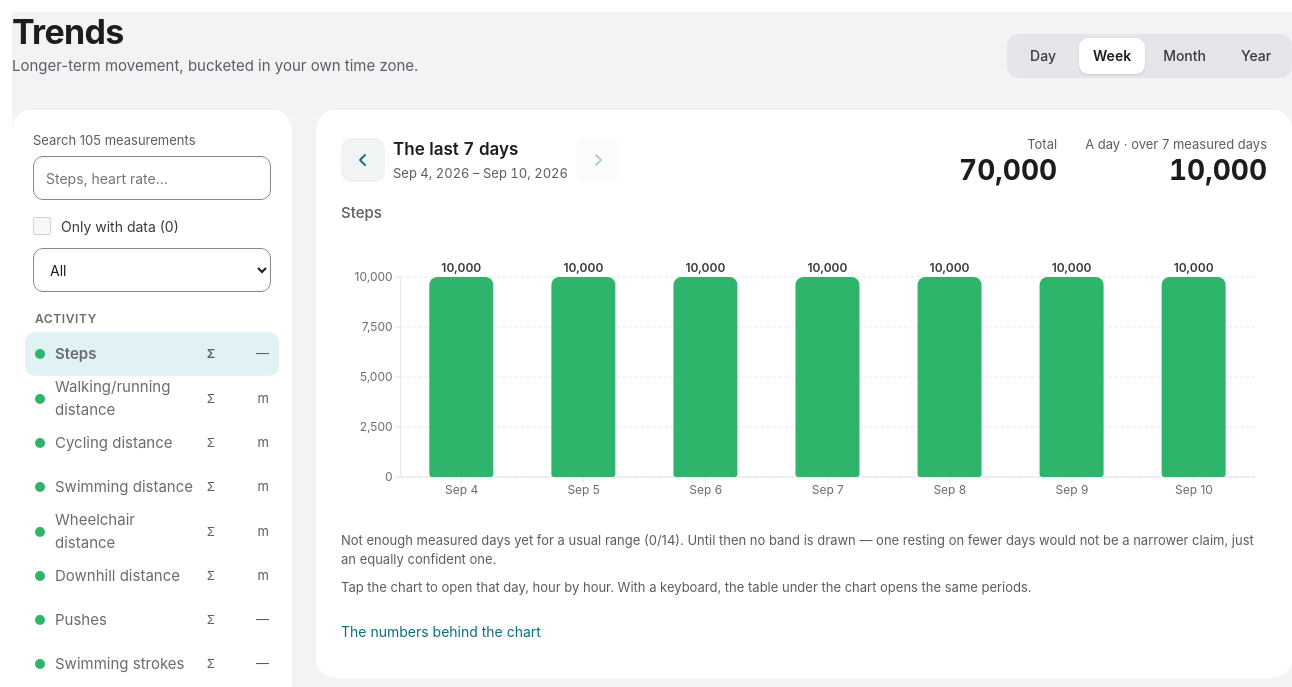
the Trends period stepper › stops going forward at the present, and offers the way back once you leave it
Check: the text "The last 7 days" is shown, box [393,139,518,159]
Check: the button named "Later period" is disabled, box [576,138,620,182]
What coordinates should you click on to do the following:
click the button named "Earlier period"
I would click on:
 (363, 160)
Its box is [341,138,385,182].
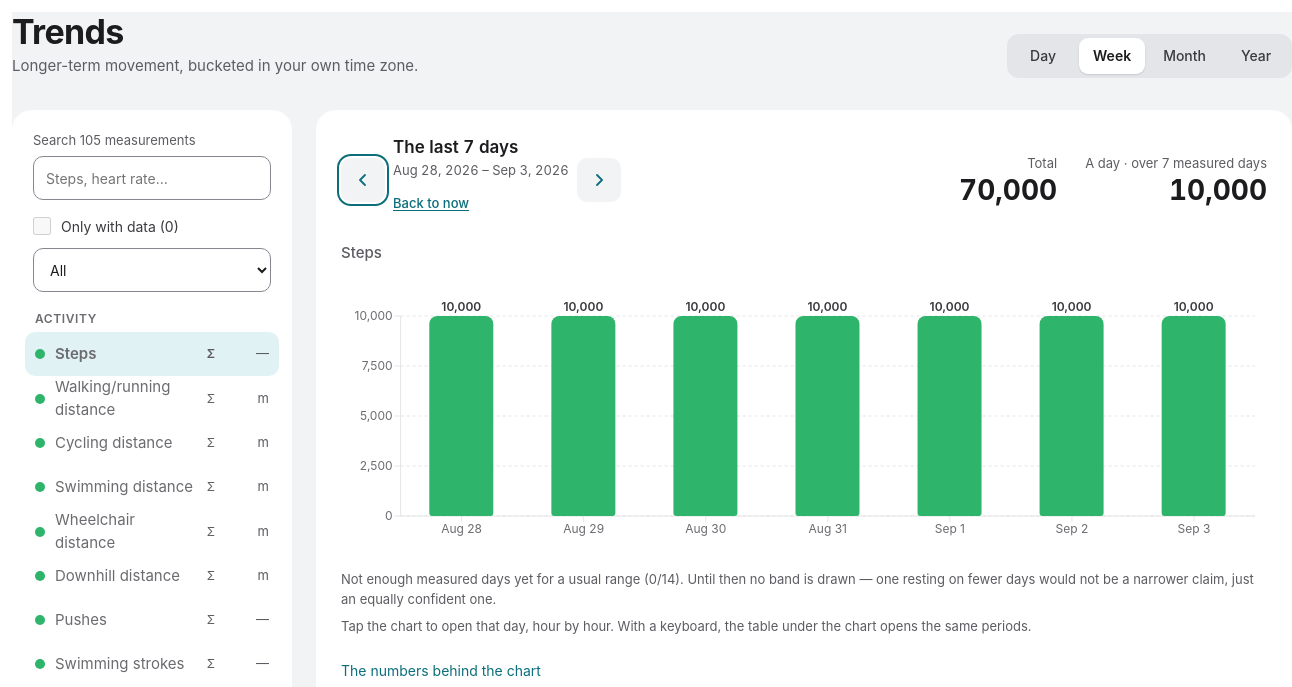
Check: the text "Aug 28, 2026 – Sep 3, 2026" is shown, box [393,161,569,181]
Check: the button named "Later period" is enabled, box [577,158,621,202]
What coordinates should you click on to do the following:
click the button "Back to now"
I would click on:
 (481, 204)
Its box is [393,182,569,226].
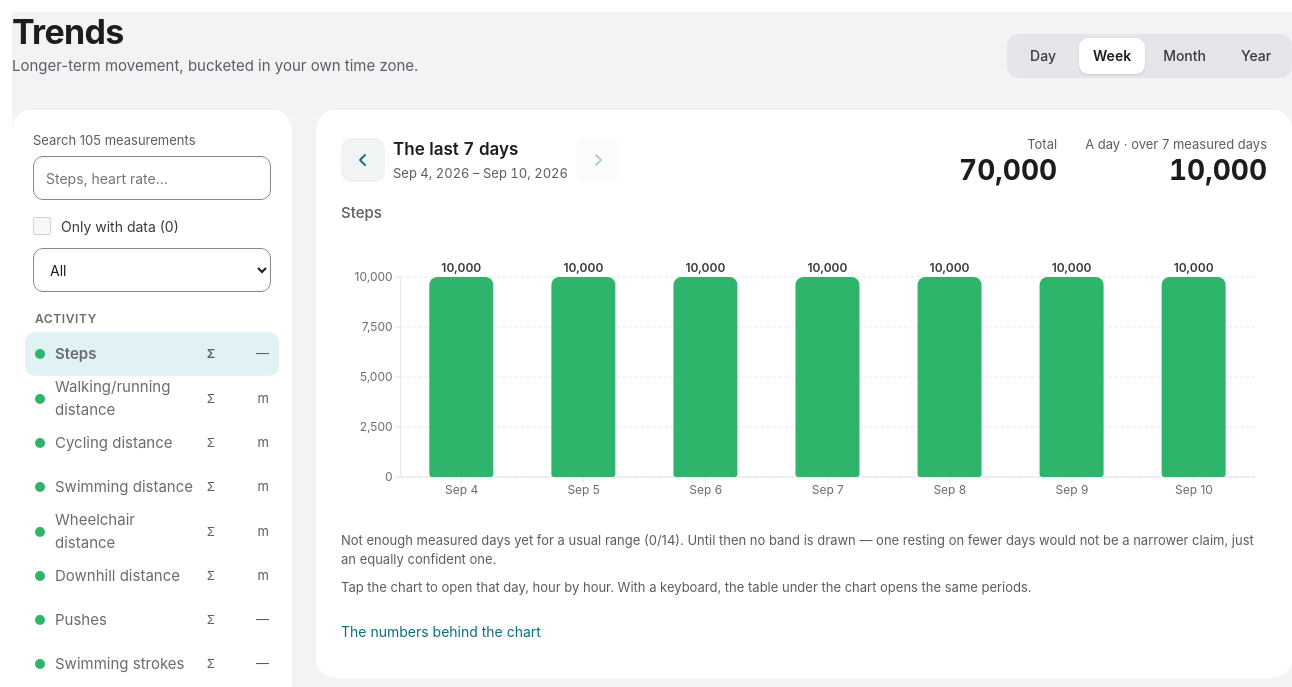
Check: the text "Sep 4, 2026 – Sep 10, 2026" is shown, box [393,164,568,183]
Check: the button named "Later period" is disabled, box [576,138,620,182]
